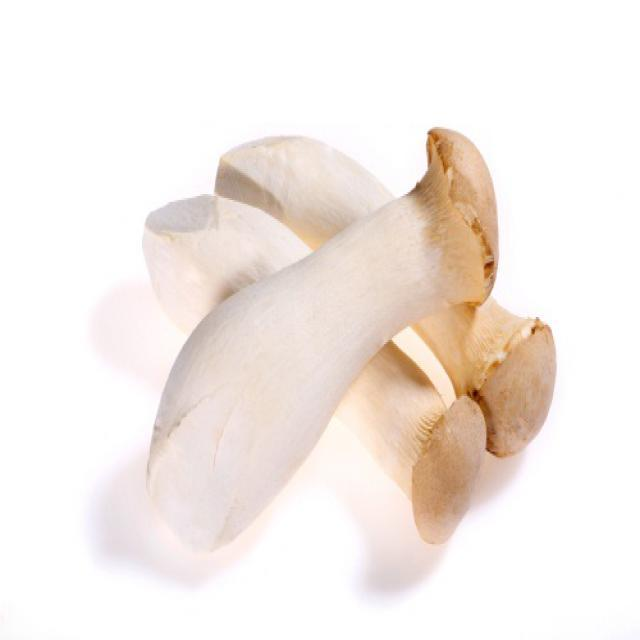Pleurotus eryngii: (134, 125, 557, 562)
